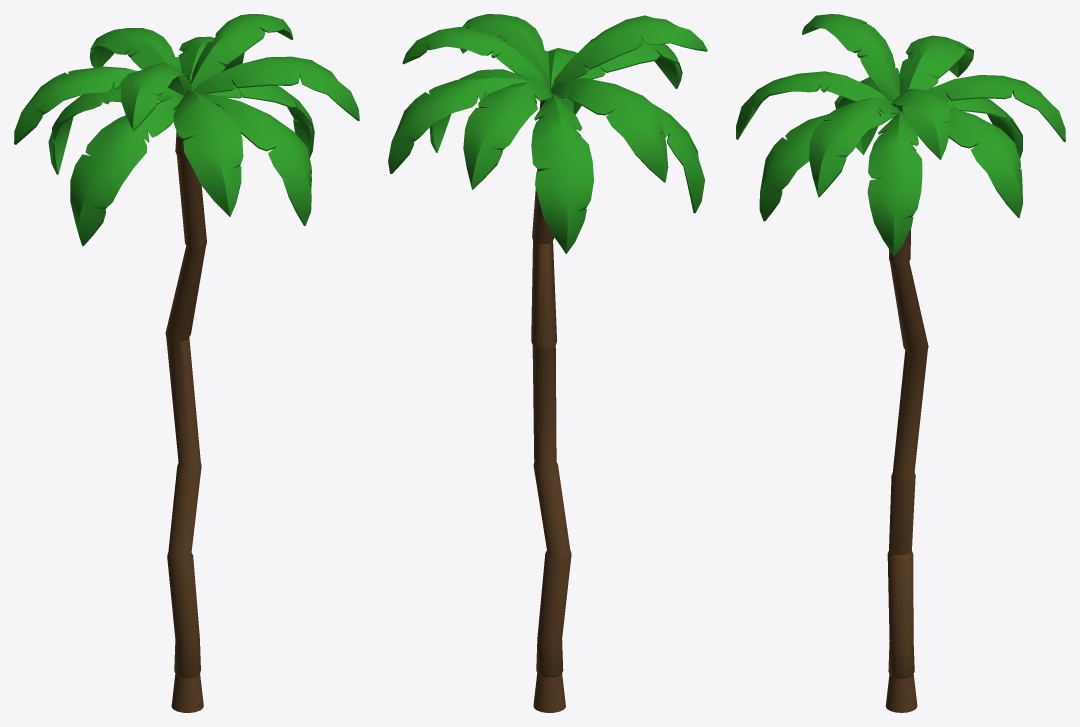
The model's file is palm.fbx.
3 views of the same model, side by side, from view 1: azimuth 30°, elevation 25°; view 2: azimuth 150°, elevation 25°; view 3: azimuth 270°, elevation 25° (orthographic). The views are drawn at different scales.
Parts seen in each view (by area): view 1: Plane.016, Plane.002; view 2: Plane.016, Plane.002; view 3: Plane.016, Plane.002.
Boxes of the visible parts, x1,y1,x2,y2 form: Plane.016: (14,14,359,246); Plane.002: (165,131,206,712); Plane.016: (388,14,707,253); Plane.002: (531,94,571,712); Plane.016: (736,14,1065,256); Plane.002: (885,112,928,712).
Bounding box in the file's own units: 7.99 × 18.77 × 8.55.
